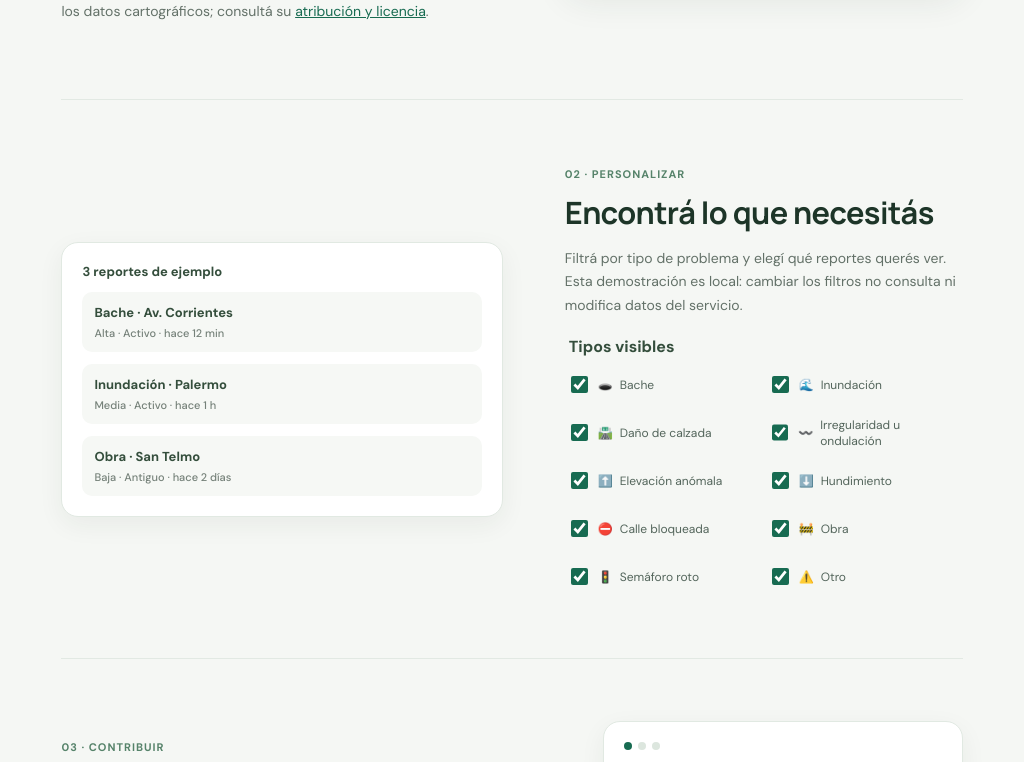
Test case: HowToUse › runs local-only report filters and tutorial steps without writing to the API
(page scrolled)
Step 1. Click the checkbox labelled "🕳️ Bache" → (579, 385), box [571,376,588,393]
(page scrolled)
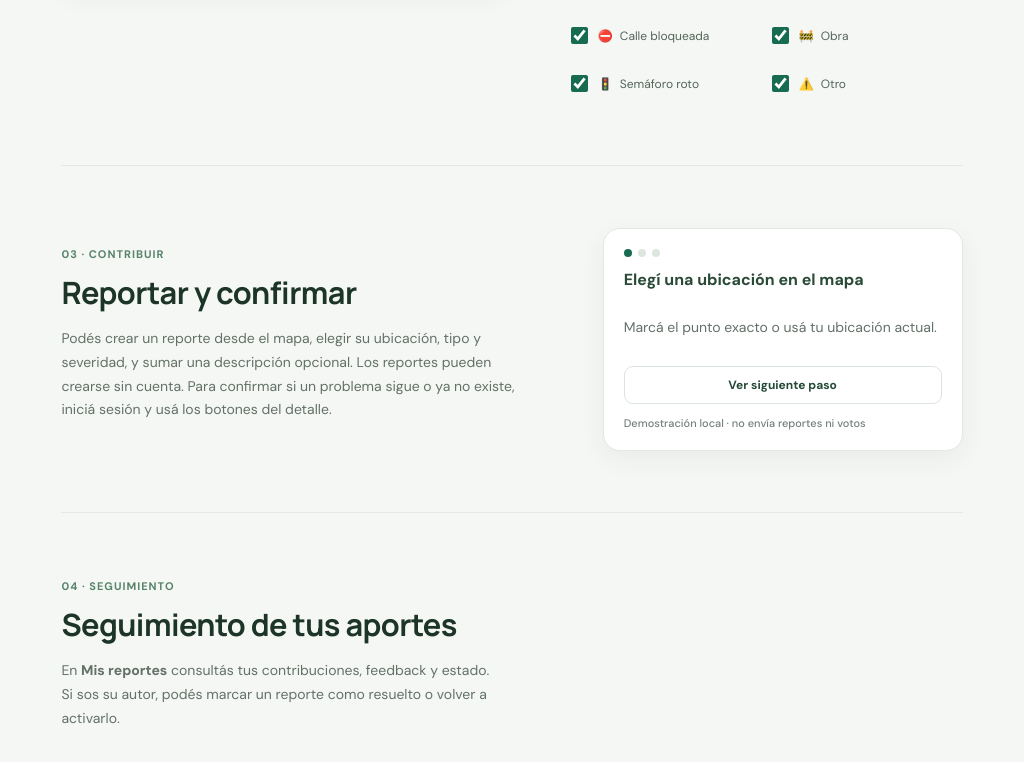
Step 2. Click the button "Ver siguiente paso" → (783, 385), box [624,366,942,404]
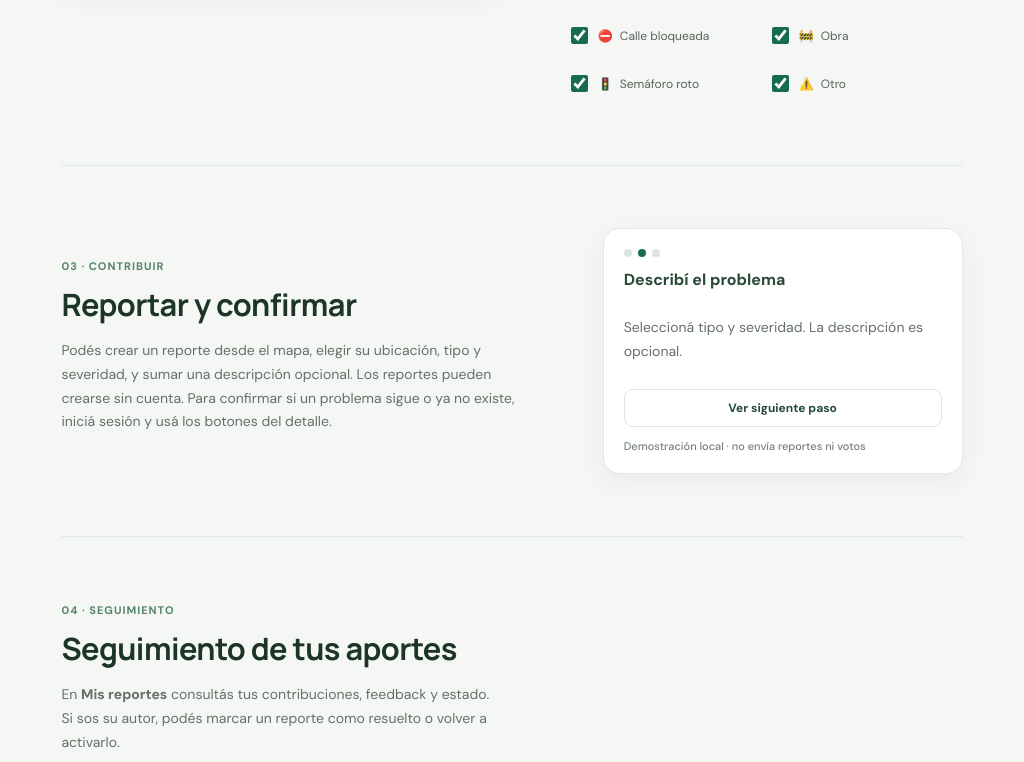
Now the text "Describí el problema" is shown, box [624,269,786,290]
